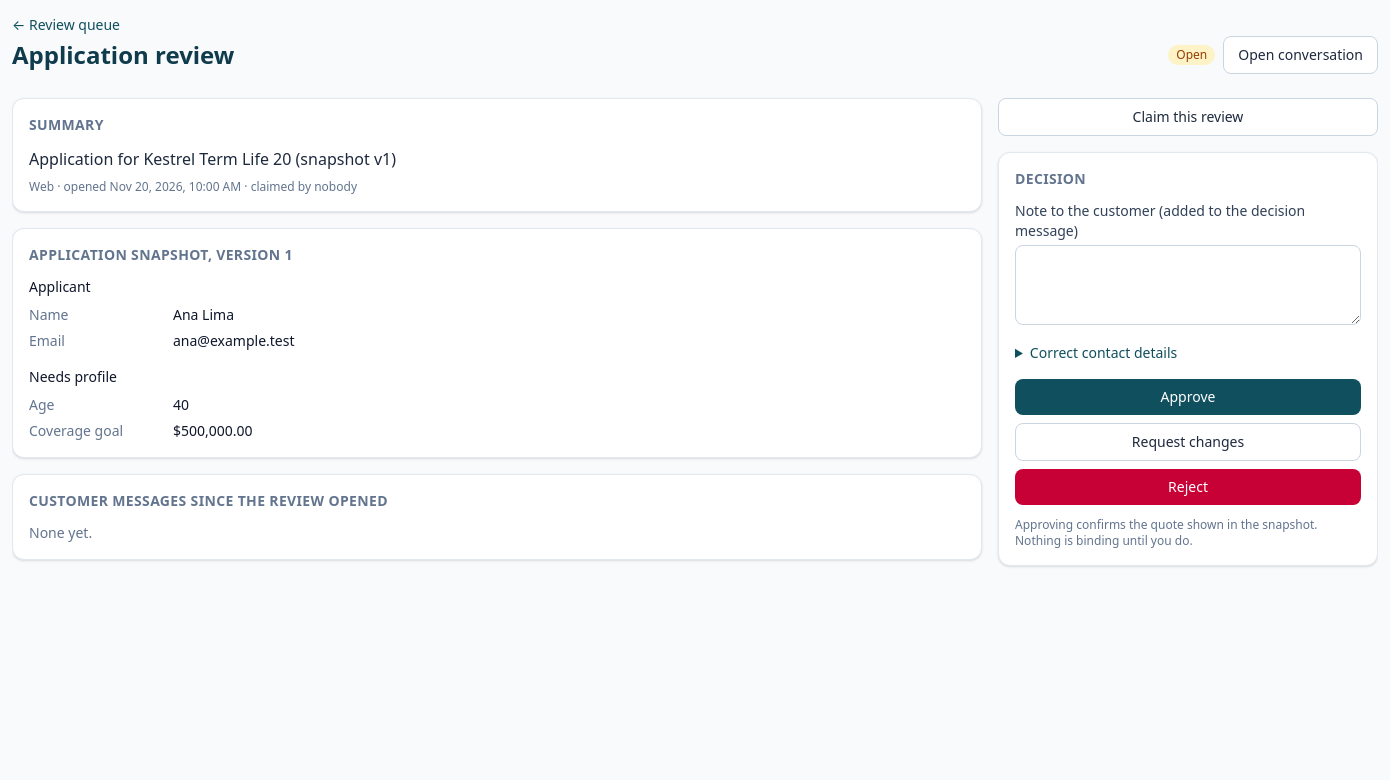
Scenario: ReviewDetailPage › explains a conflict instead of failing silently
Click the button "Claim this review".
click(1188, 117)  # box x1=998 y1=98 x2=1378 y2=136
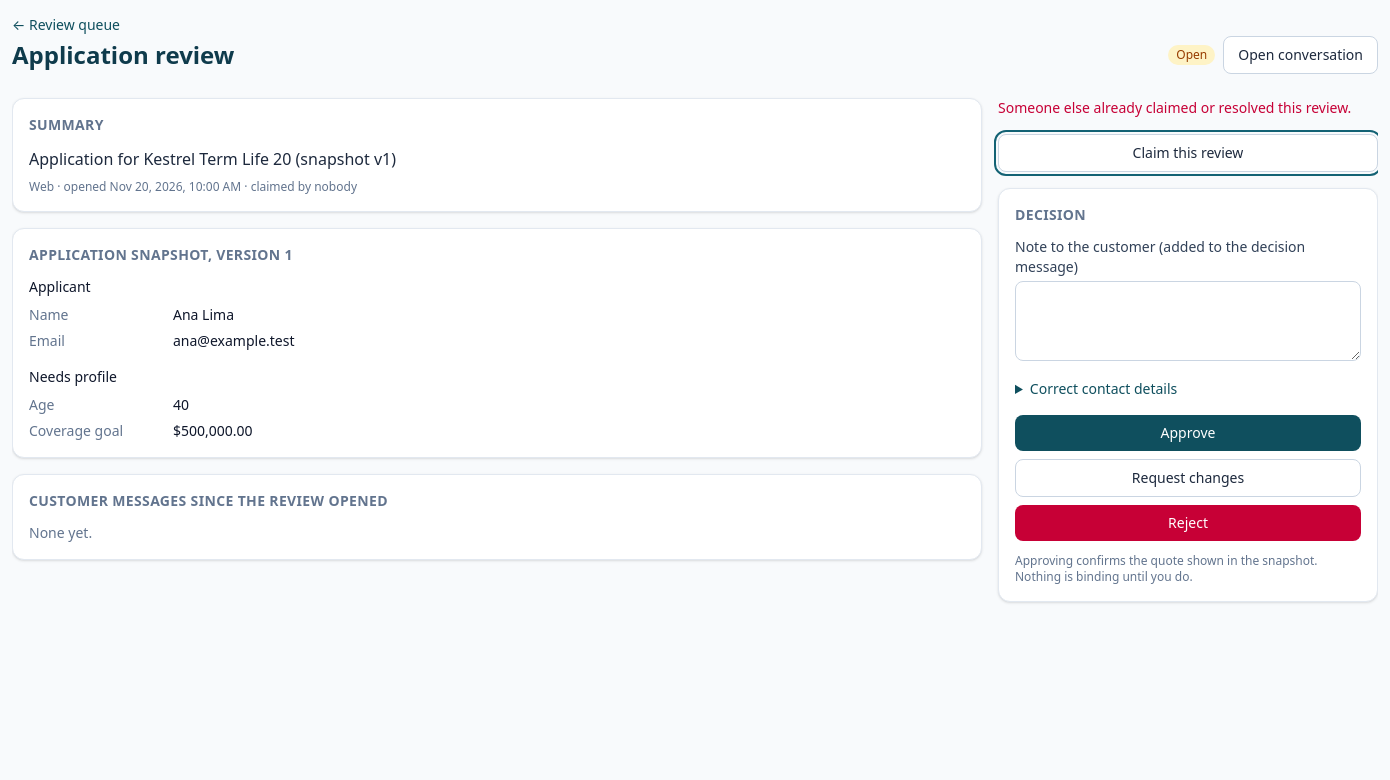
Expected: the text "Someone else already claimed or resolved this review." is shown, x1=998 y1=98 x2=1378 y2=118
